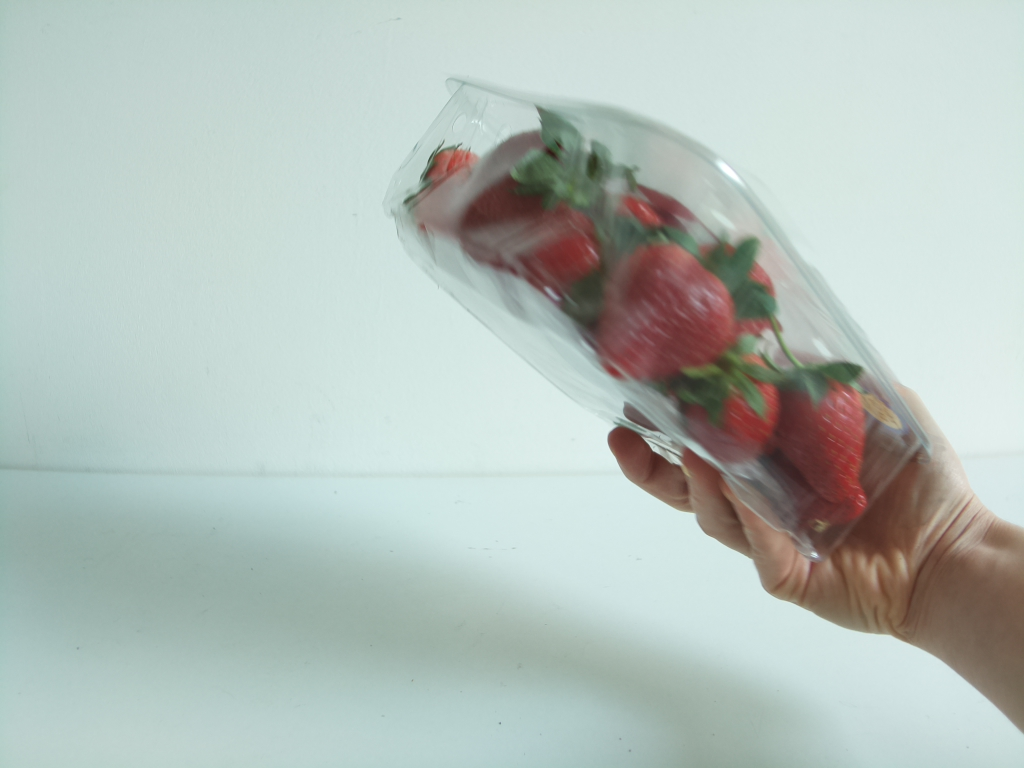soft-fruit: (382, 73, 936, 559)
